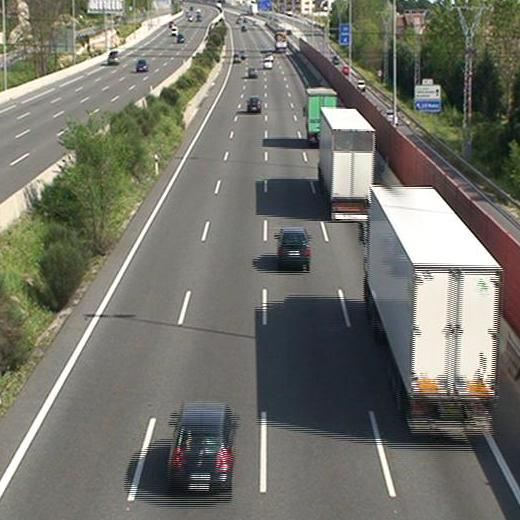car: (166, 404, 235, 488), (276, 227, 309, 267), (247, 96, 263, 113), (247, 66, 258, 78), (263, 59, 273, 68)
small-truck: (303, 89, 337, 143)
truck: (361, 186, 498, 437), (319, 108, 375, 218)
